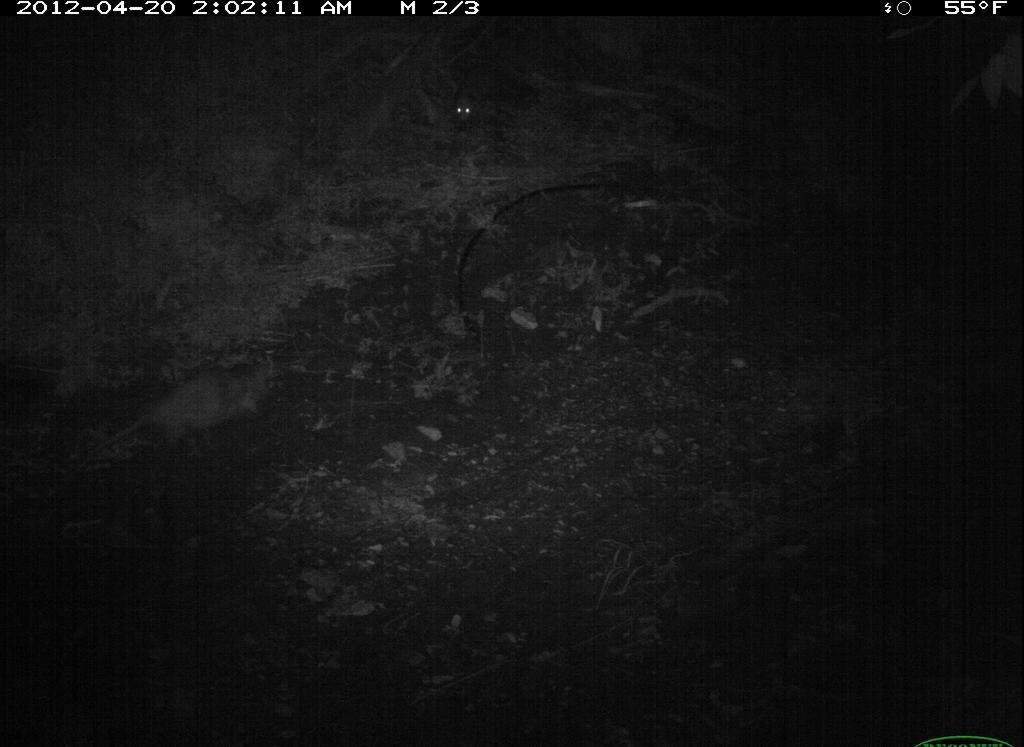opossum: (56, 347, 329, 484), (438, 68, 498, 127)
